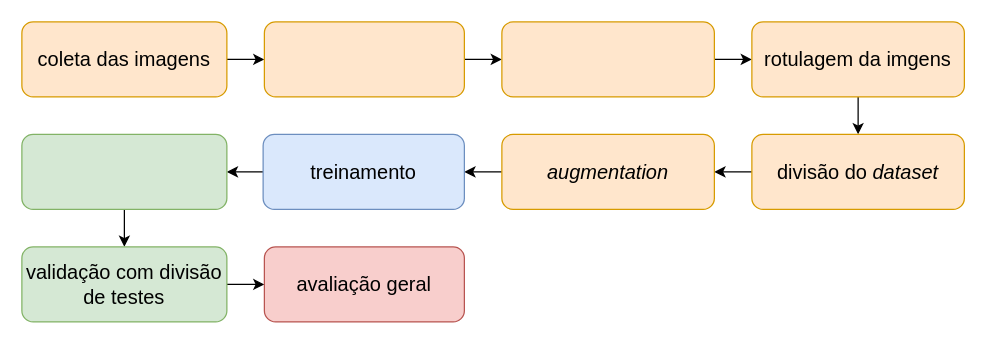
The diagram is 986 pixels wide and 344 high, and some of its shapes have lost their labels. The centre of each missing label's shape, as x and y in pixels:
"redimensão de imagem" belongs at point (363, 59).
"remoção do fudo" belongs at point (607, 59).
"validação cruzada" belongs at point (124, 171).
